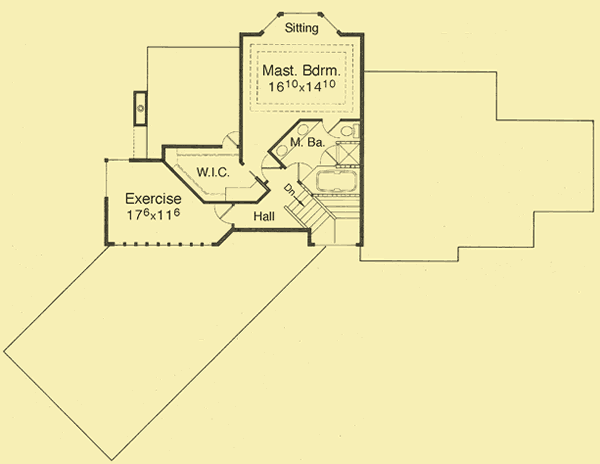door: (259, 164, 285, 181), (285, 161, 303, 184), (322, 117, 341, 137), (221, 131, 242, 149), (218, 204, 236, 225)
large_sink: (339, 121, 362, 139)
stairs: (282, 185, 332, 235)
tub: (311, 167, 358, 195)
